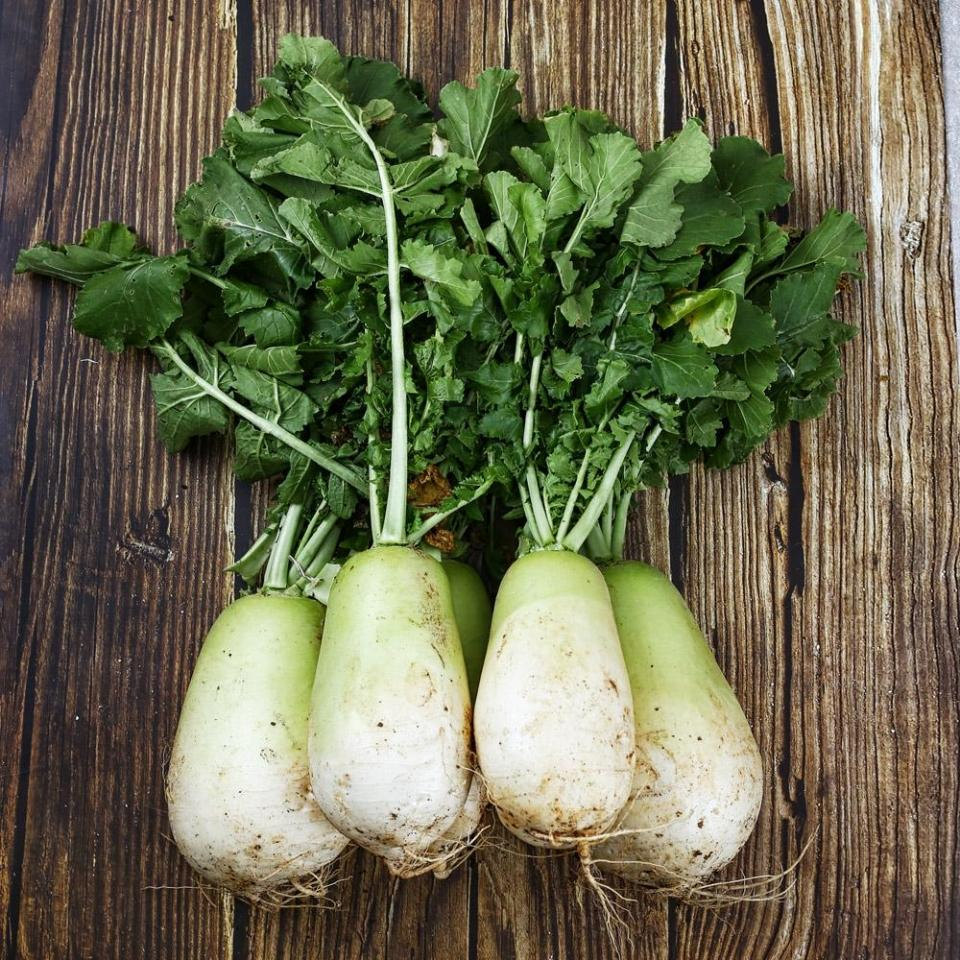radish: (246, 716, 537, 960), (451, 711, 708, 960), (714, 725, 939, 960), (822, 709, 960, 960)
